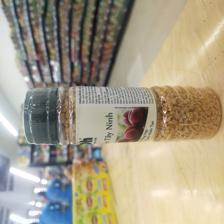TayNinh_green: (20, 82, 222, 147)
